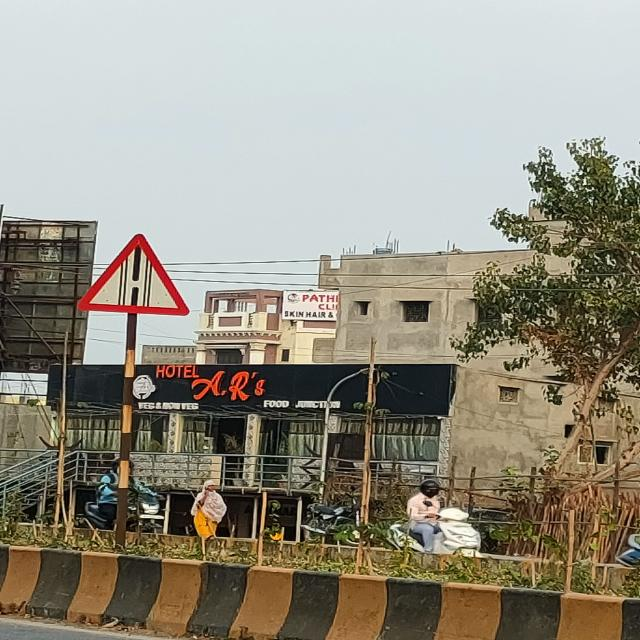ferry: (71, 233, 187, 316)
